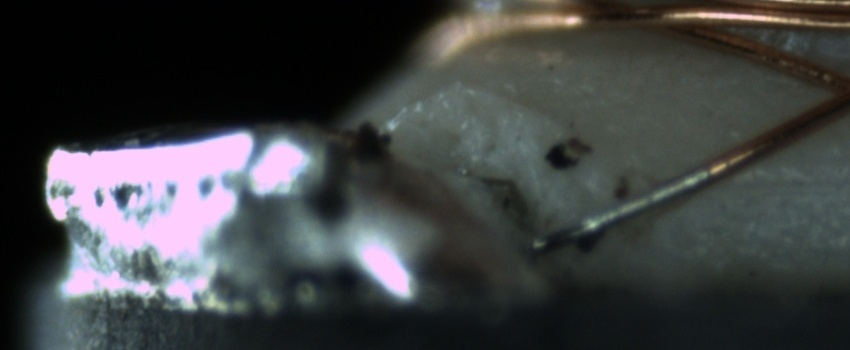CL: (803, 58, 850, 121)
DL: (703, 151, 849, 215)
TS: (529, 166, 713, 255)
